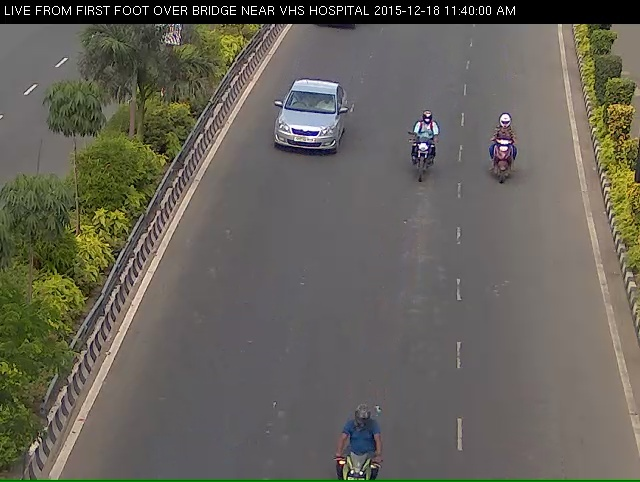Car: (267, 91, 342, 176)
Person: (401, 126, 438, 205), (489, 131, 518, 200)
